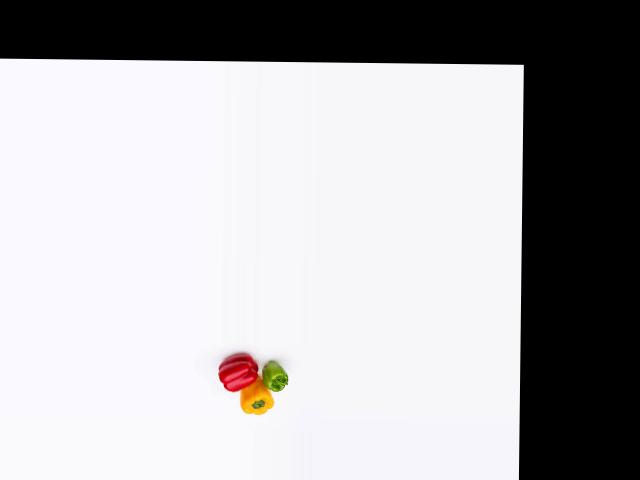bell_pepper: (260, 359, 295, 394)
